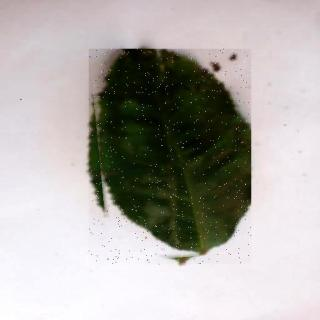Algal Leaf: (90, 50, 252, 266)
